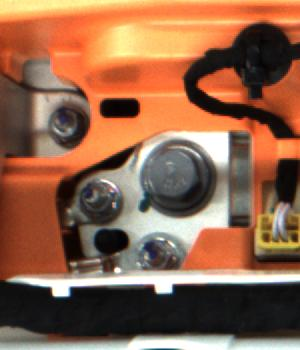nut_b: (133, 128, 215, 222)
screw_s: (43, 105, 81, 143), (137, 240, 175, 273), (78, 180, 114, 214)
